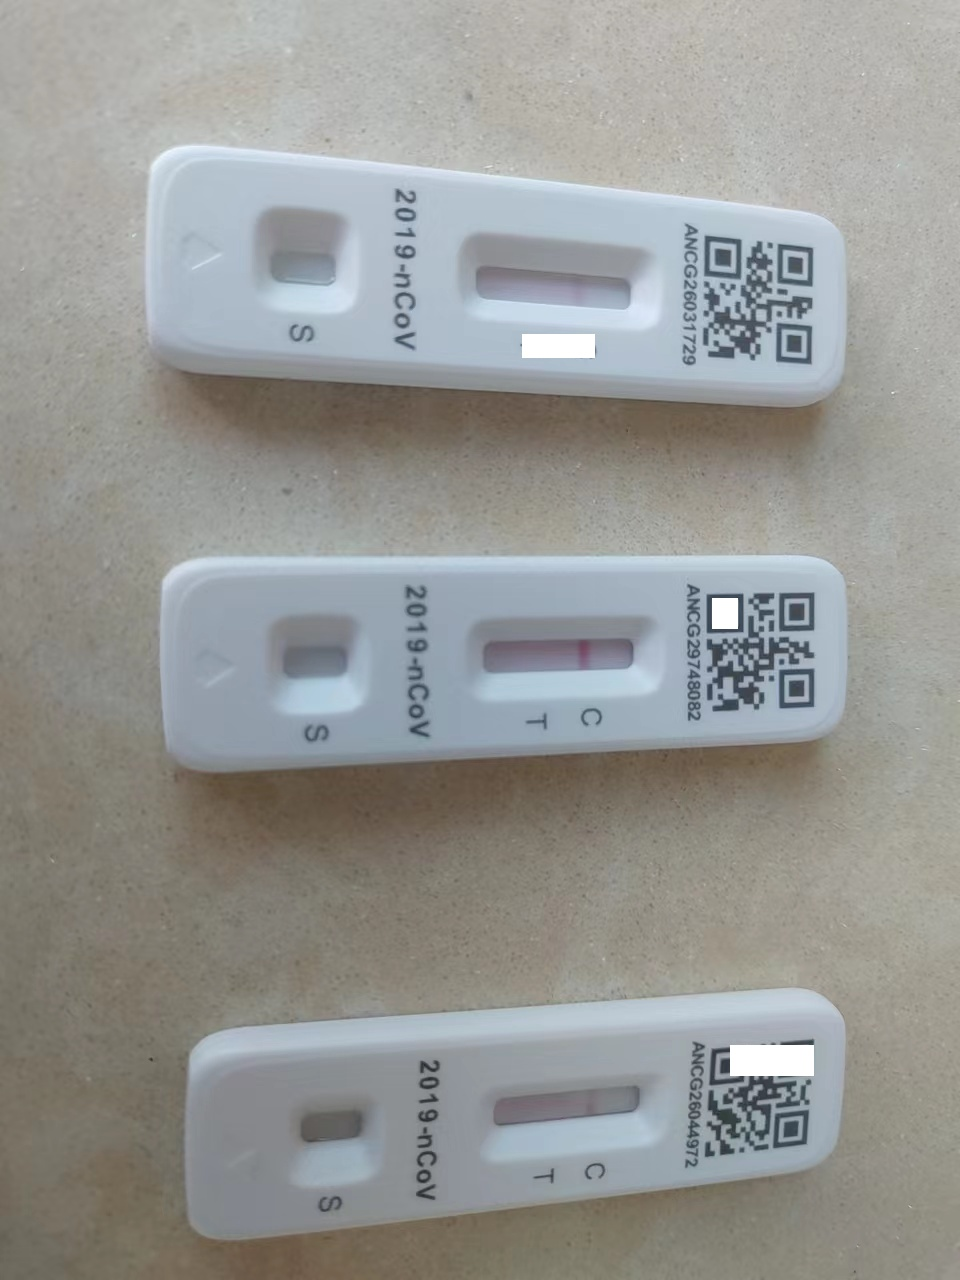negative: (454, 235, 658, 325), (455, 615, 668, 698), (481, 1074, 662, 1146)
